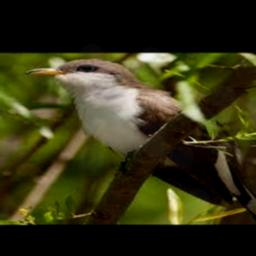Cuckoo: (24, 58, 256, 224)
